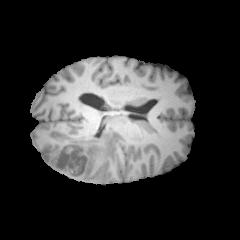glioma: (44, 127, 126, 178)
